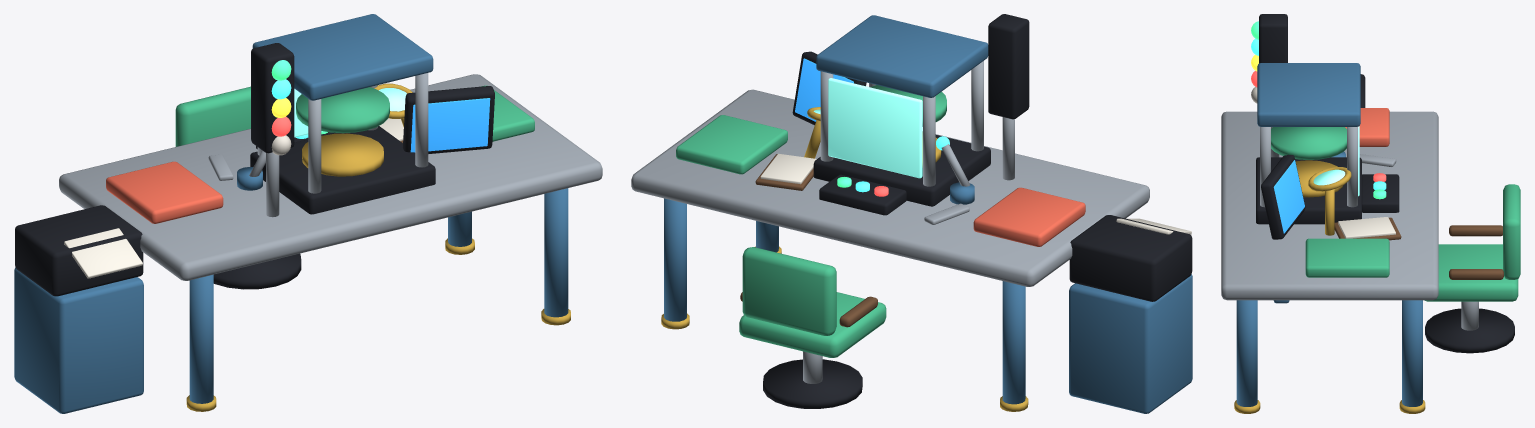
File: Workstation_Testing_Optimized.fbx
3 renders of one model, left to right at view 1: azimuth 30°, elevation 25°; view 2: azimuth 150°, elevation 25°; view 3: azimuth 270°, elevation 25°, orthographic. The views are drawn at different scales.
Parts seen in each view (by area): view 1: Testing_Static_BrushedMetal, Testing_Static_Tester_SlateBlue, Testing_Static_CharcoalVisor, Testing_Static_Developer_Coral, Testing_Static_Tester_Mint, Testing_DisplayPanelScreen, Testing_ScannerRing, Testing_InspectionPlatform, Testing_ErrorReportSheet, Testing_Static_Brass; view 2: Testing_Static_BrushedMetal, Testing_Static_Tester_SlateBlue, Testing_Static_CharcoalVisor, Testing_Static_Tester_Mint, Testing_ChamberDoor, Testing_Static_Developer_Coral, Testing_DisplayPanelScreen, Testing_Static_PaperWarm, Testing_Static_DarkWood, Testing_Static_Brass, Testing_ScannerRing, Testing_ErrorReportSheet; view 3: Testing_Static_BrushedMetal, Testing_Static_Tester_SlateBlue, Testing_Static_CharcoalVisor, Testing_Static_Tester_Mint, Testing_ScannerRing, Testing_Static_DarkWood, Testing_Static_Brass, Testing_DisplayPanelScreen, Testing_Static_Developer_Coral, Testing_Static_PaperWarm, Testing_InspectionPlatform, Testing_Static_ChamberGlass.
Boxes of the visible parts, x1,y1,x2,y2 form: Testing_Static_BrushedMetal: [59, 73, 602, 280]; Testing_Static_Tester_SlateBlue: [14, 14, 568, 413]; Testing_Static_CharcoalVisor: [15, 43, 494, 296]; Testing_Static_Developer_Coral: [106, 161, 223, 223]; Testing_Static_Tester_Mint: [175, 85, 534, 146]; Testing_DisplayPanelScreen: [410, 98, 490, 152]; Testing_ScannerRing: [296, 87, 389, 133]; Testing_InspectionPlatform: [302, 133, 383, 176]; Testing_ErrorReportSheet: [64, 228, 142, 278]; Testing_Static_Brass: [186, 83, 570, 411]; Testing_Static_BrushedMetal: [631, 61, 1149, 383]; Testing_Static_Tester_SlateBlue: [664, 15, 1192, 413]; Testing_Static_CharcoalVisor: [763, 14, 1192, 408]; Testing_Static_Tester_Mint: [676, 115, 886, 357]; Testing_ChamberDoor: [828, 78, 922, 178]; Testing_Static_Developer_Coral: [973, 187, 1085, 246]; Testing_DisplayPanelScreen: [795, 58, 853, 121]; Testing_Static_PaperWarm: [760, 153, 816, 184]; Testing_Static_DarkWood: [740, 154, 877, 327]; Testing_Static_Brass: [661, 107, 1028, 411]; Testing_ScannerRing: [870, 85, 946, 126]; Testing_ErrorReportSheet: [1116, 218, 1191, 234]; Testing_Static_BrushedMetal: [1221, 111, 1478, 330]; Testing_Static_Tester_SlateBlue: [1236, 63, 1422, 406]; Testing_Static_CharcoalVisor: [1256, 14, 1514, 353]; Testing_Static_Tester_Mint: [1305, 184, 1520, 301]; Testing_ScannerRing: [1271, 127, 1346, 159]; Testing_Static_DarkWood: [1334, 217, 1503, 279]; Testing_Static_Brass: [1234, 167, 1425, 413]; Testing_DisplayPanelScreen: [1273, 160, 1304, 233]; Testing_Static_Developer_Coral: [1345, 108, 1389, 146]; Testing_Static_PaperWarm: [1338, 217, 1395, 238]; Testing_InspectionPlatform: [1295, 160, 1343, 197]; Testing_Static_ChamberGlass: [1313, 169, 1345, 185].
Bounding box in the file's own units: 31.3 × 19 × 18.6.
